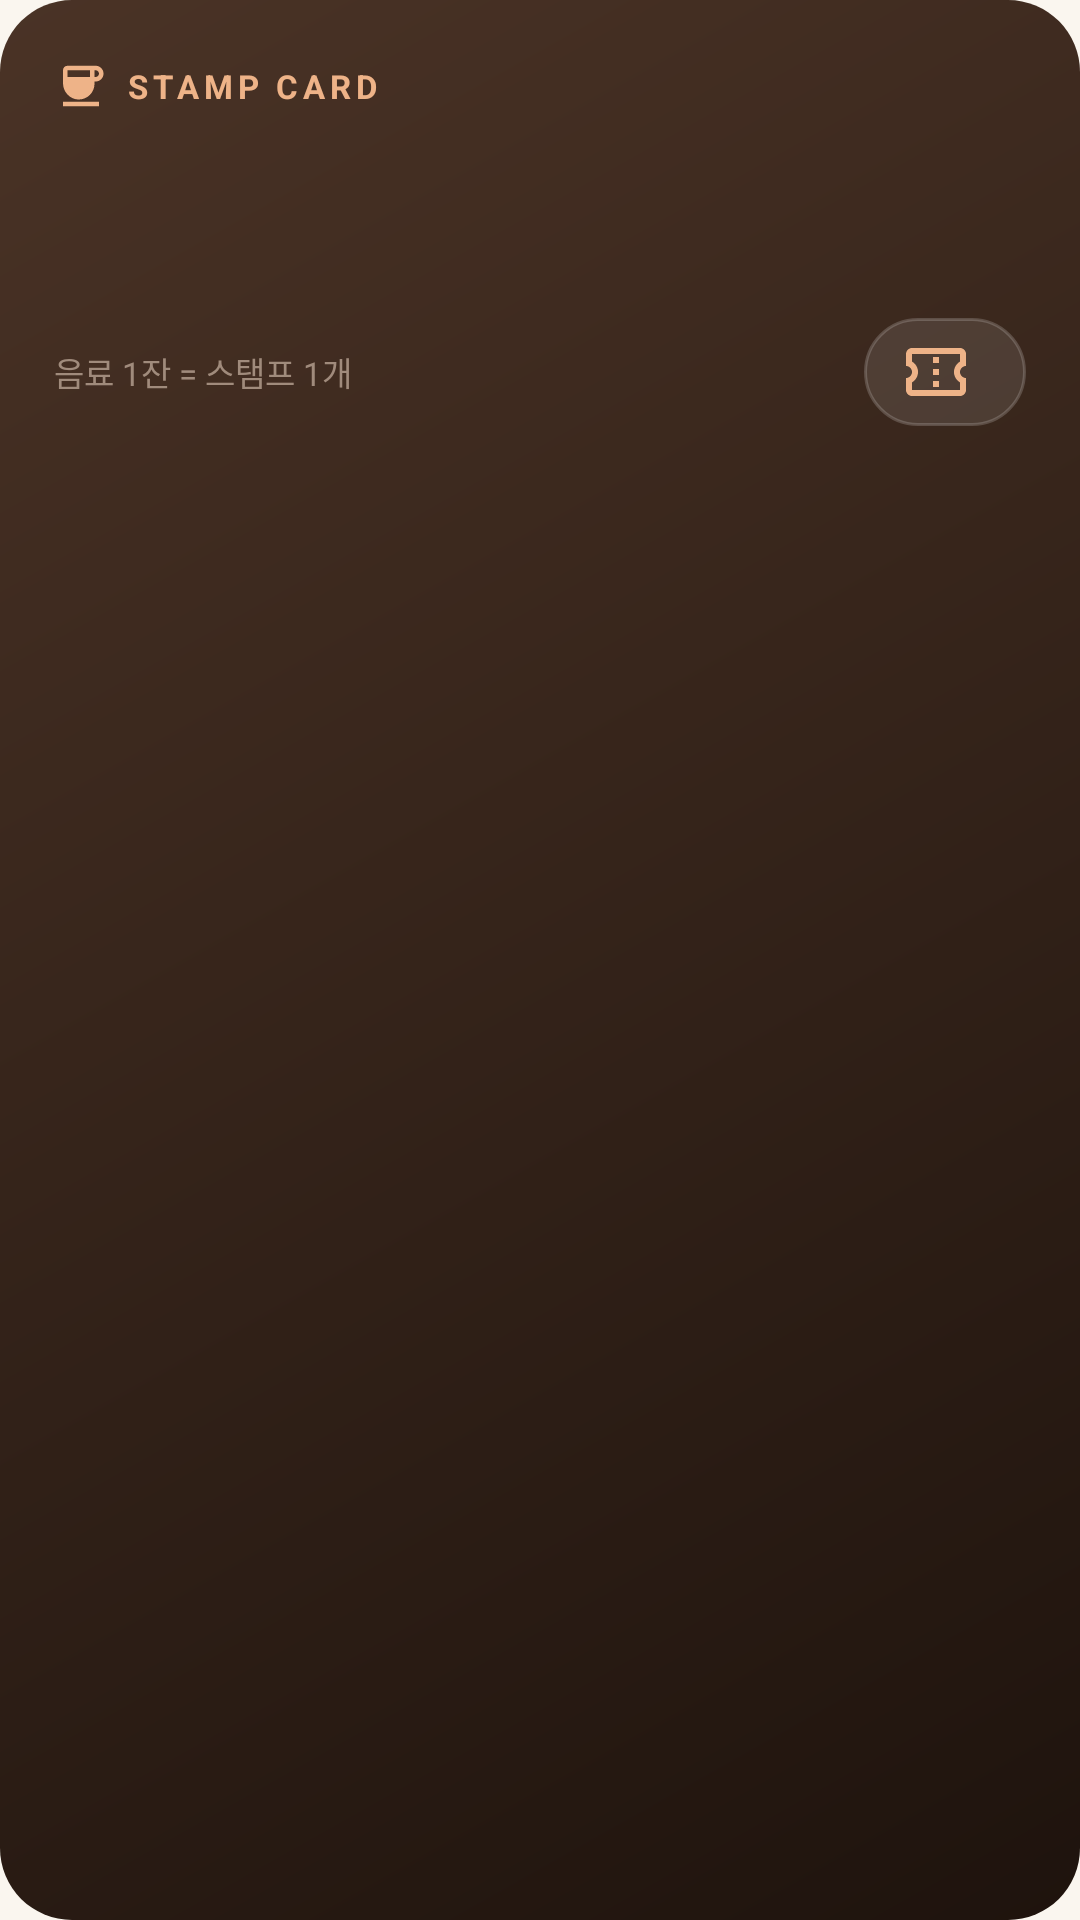

Named icons in this screenshot (1080×1920) and their centers, (x=x, y=y):
coffee: (x=83, y=86)
